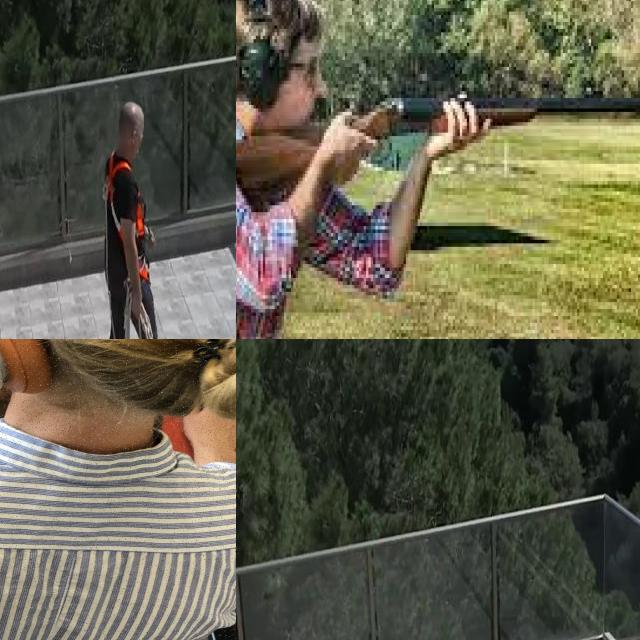Ear-protection: (0, 339, 97, 408), (236, 0, 293, 117)
Harness: (106, 153, 133, 236)
